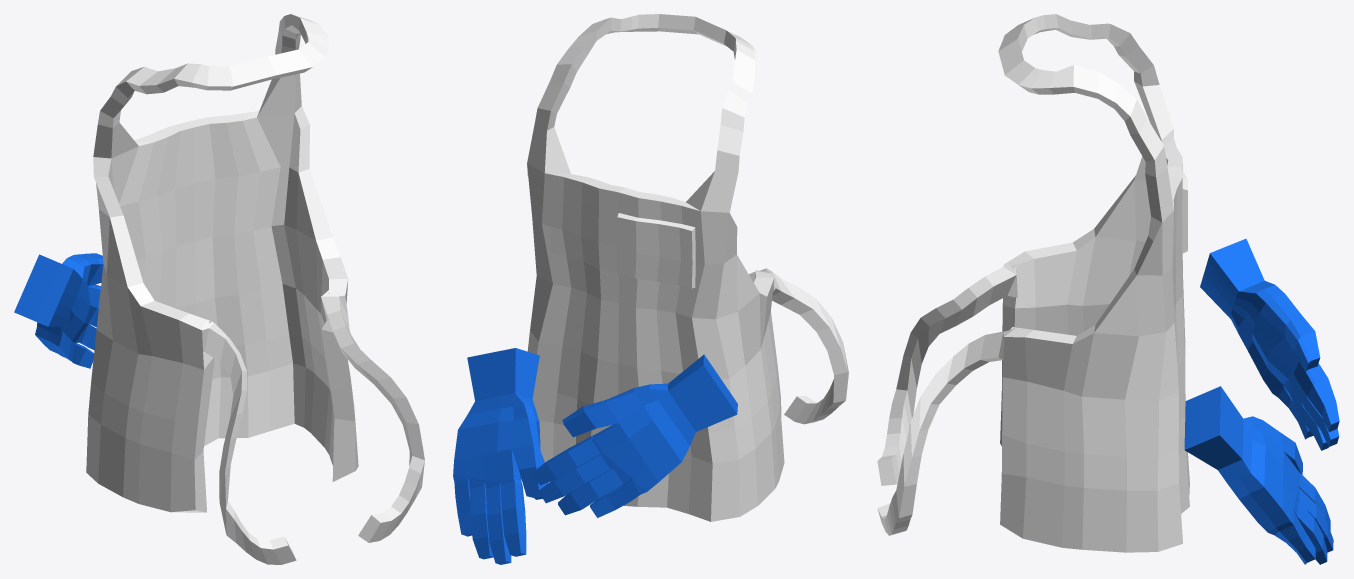
File: Apron_Gloves.fbx
3 renders of one model, left to right at view 1: azimuth 30°, elevation 25°; view 2: azimuth 150°, elevation 25°; view 3: azimuth 270°, elevation 25°, orthographic. The views are drawn at different scales.
Parts seen in each view (by area): view 1: Cube; view 2: Cube; view 3: Cube.
Boxes of the visible parts, x1,y1,x2,y2 form: Cube: (14,14,424,564); Cube: (453,14,848,564); Cube: (877,14,1339,564).
Bounding box in the file's own units: 0.9259 × 1.25 × 1.47.
